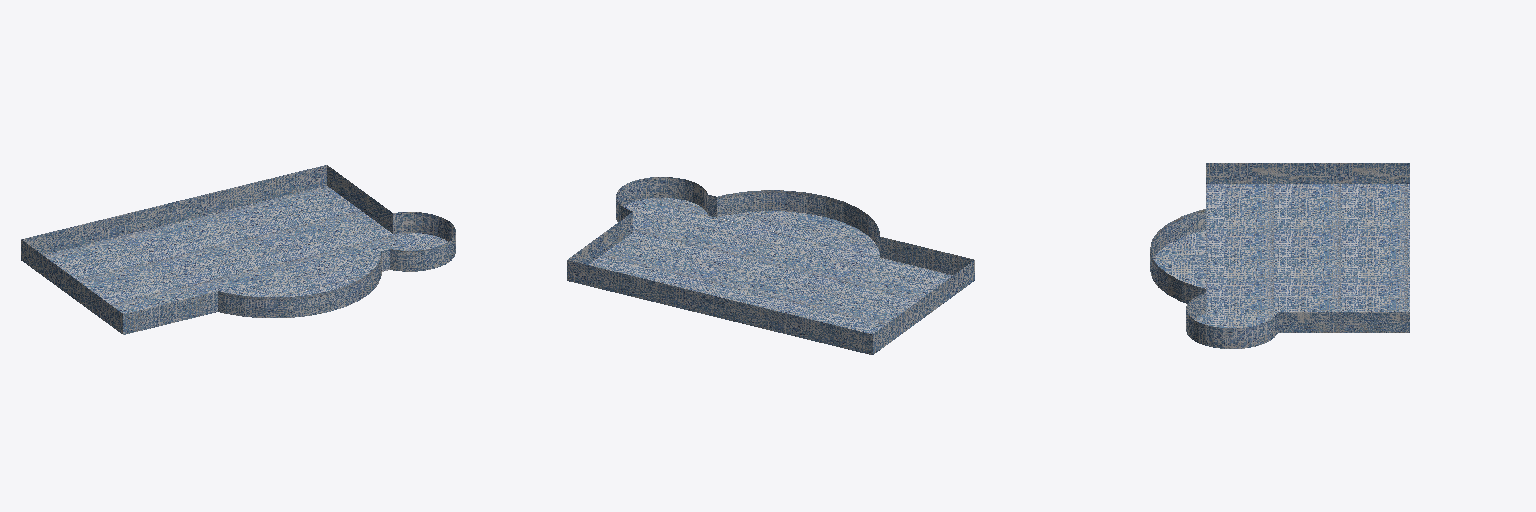
3 renders of one model, left to right at view 1: azimuth 30°, elevation 25°; view 2: azimuth 150°, elevation 25°; view 3: azimuth 270°, elevation 25°, orthographic.
Parts seen in each view (by area): view 1: Cylinder.001; view 2: Cylinder.001; view 3: Cylinder.001.
Boxes of the visible parts, box(x1,y1,x2,y2) form: Cylinder.001: box(21, 165, 455, 334); Cylinder.001: box(567, 177, 974, 354); Cylinder.001: box(1150, 163, 1409, 348).
Size of the model in its own units: 0.1546 by 0.0091 by 0.1025.
1 materials, 1 textured.